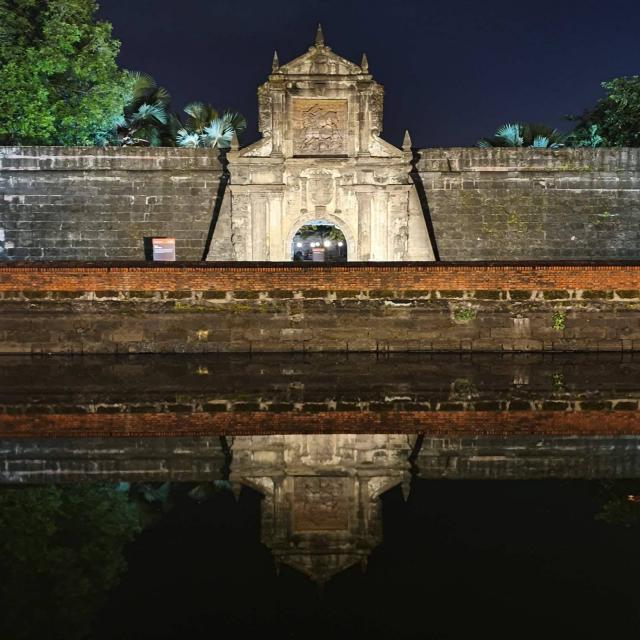Fort Santiago: (0, 23, 640, 264)
